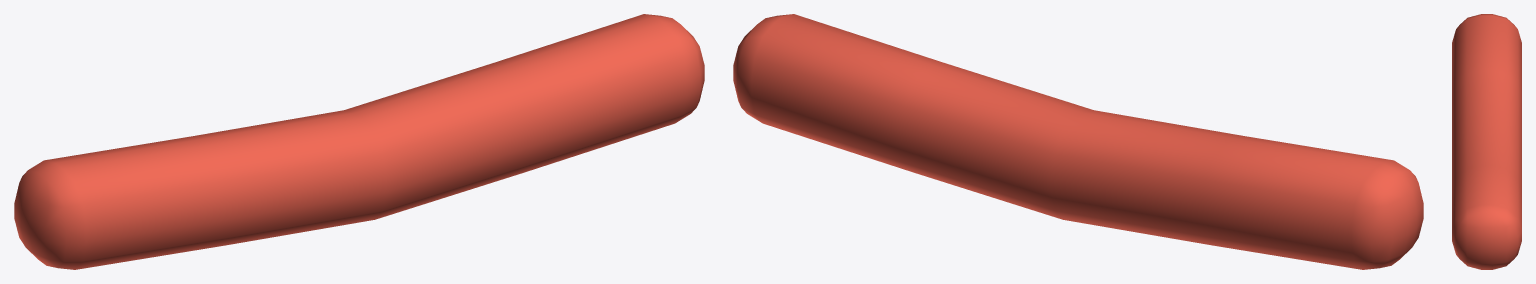
File: Sausage1.fbx
3 renders of one model, left to right at view 1: azimuth 30°, elevation 25°; view 2: azimuth 150°, elevation 25°; view 3: azimuth 270°, elevation 25°, orthographic. The views are drawn at different scales.
Visible parts, largest first — view 1: Cube.171; view 2: Cube.171; view 3: Cube.171.
Part boxes in pixels (box(x1,y1,x2,y2)): Cube.171: box(14, 14, 704, 269); Cube.171: box(733, 14, 1423, 269); Cube.171: box(1452, 14, 1521, 269).
Size of the model in its own units: 62.97 by 10.89 by 8.81.
